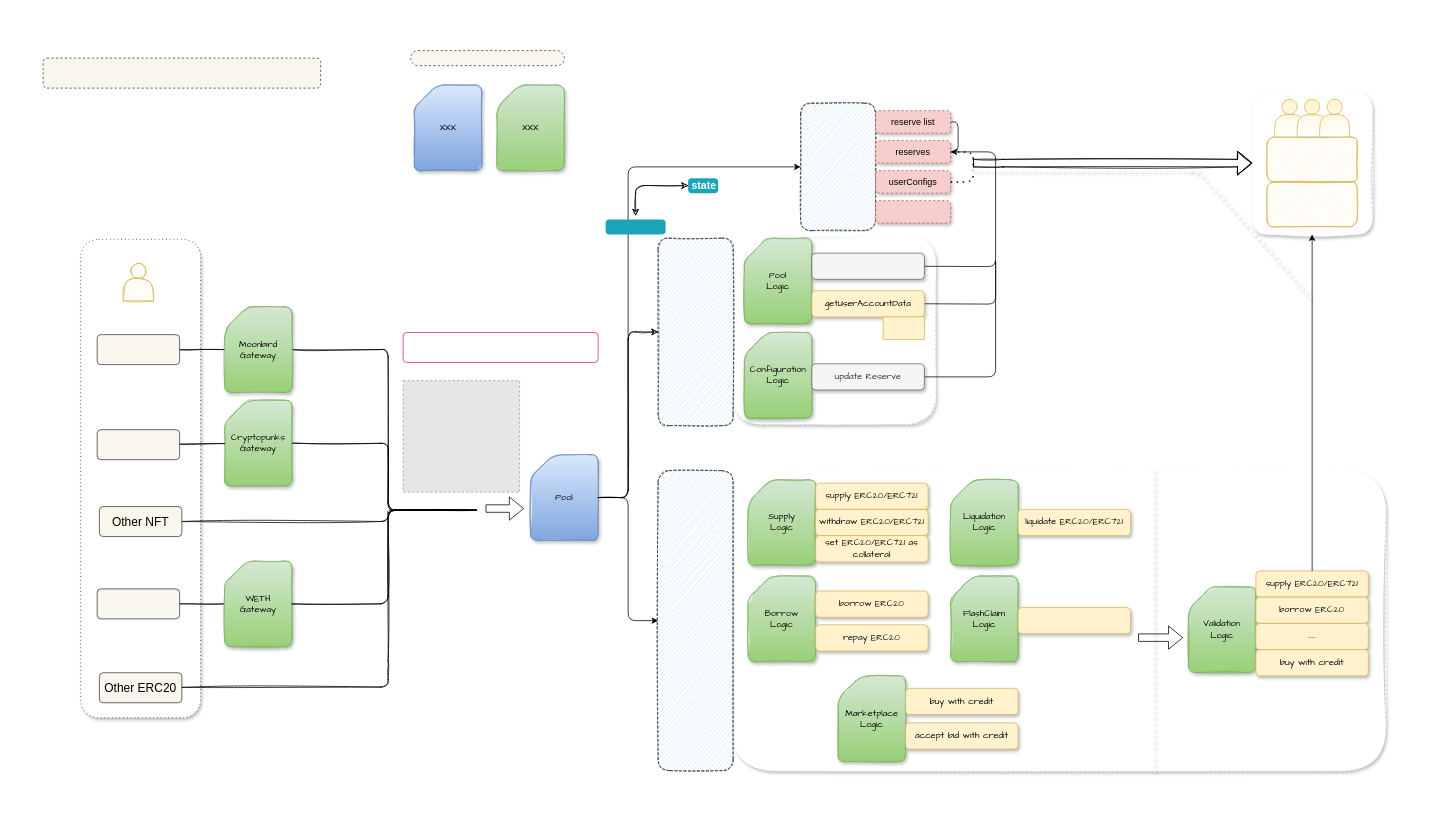
The diagram is 1444 pixels wide and 814 high, and some of its shapes have lost their labels. Grey dashed boxes stand in for pictures. Each missing label, with the centre of its shape:
Cryptopunks: the point at 138,444
ERC20 Positions: the point at 1311,159
ERC721 Positions: the point at 1311,204
external: the point at 903,327
External User Operation: the point at 695,620
flash claim: the point at 1074,621
Init/Drop Reserve: the point at 868,267
Internal Admin Operation: the point at 695,331
MOONBIRDS: the point at 138,349
opearation: the point at 635,226
ParaSpace contract: the point at 487,58
ParaSpace Entry point: the point at 500,347
ParaSpace Pool Logic Overview: the point at 181,72
Pool Storage: the point at 838,166
some constants: the point at 913,212
understanding data abstractly as positions: the point at 1108,152
WETH: the point at 138,603
